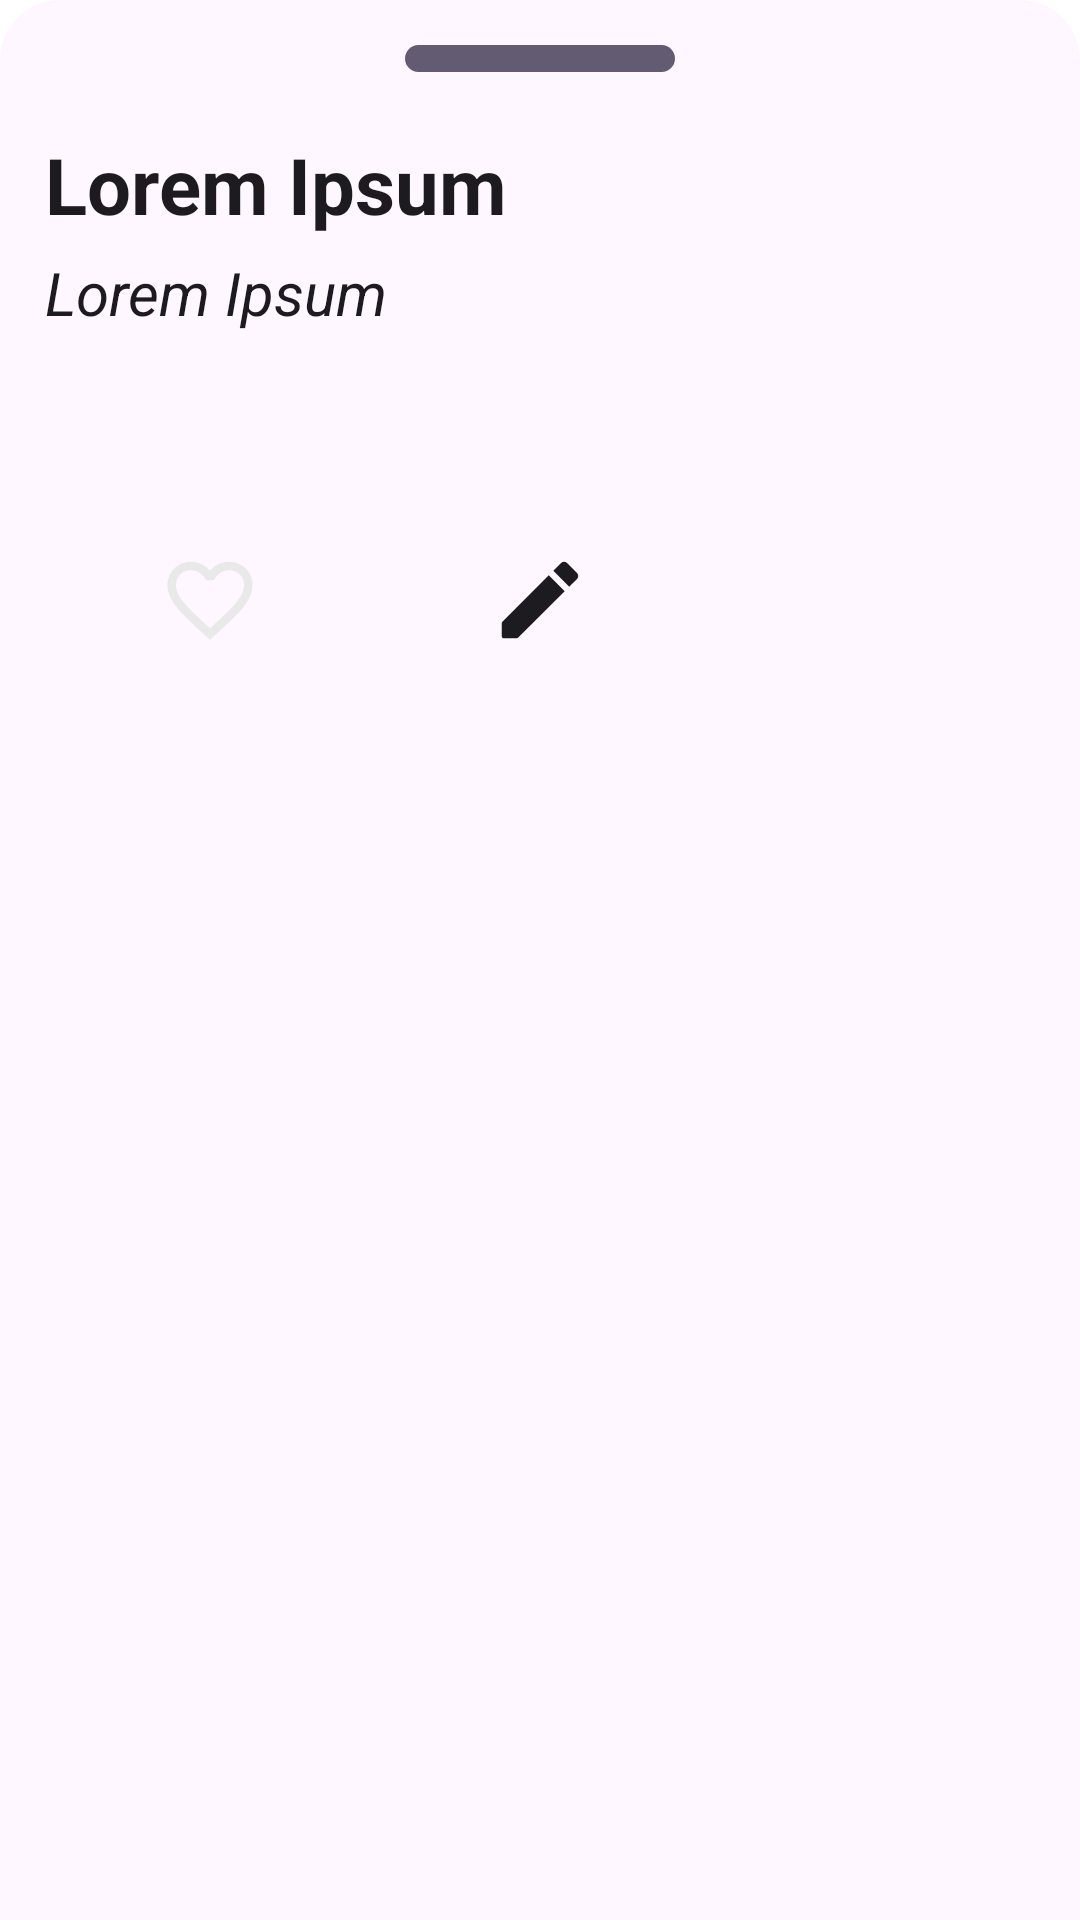

Icon bounding boxes for this 1080px×1920px phone screenshot, format bbox(x1, y1, x2, y2):
update: bbox(501, 561, 579, 639)
